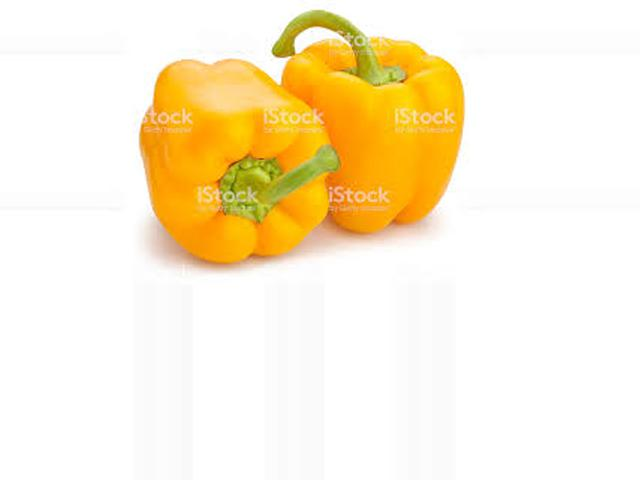bell_pepper: (262, 17, 467, 235)
